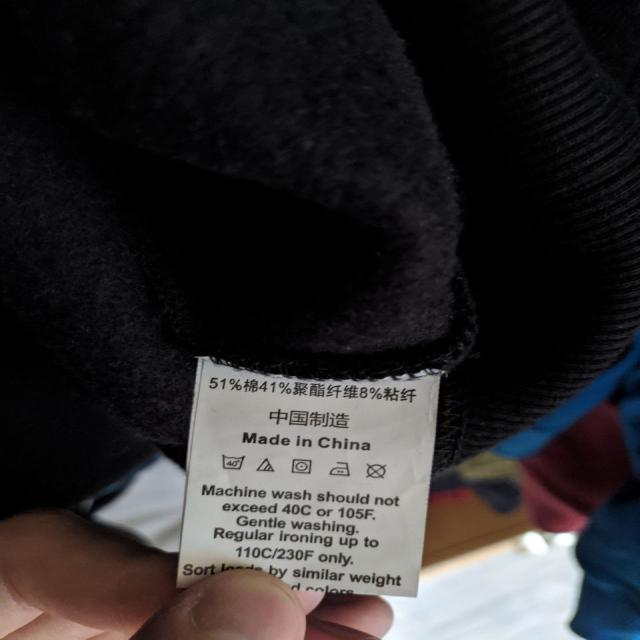40C: (218, 449, 246, 474)
DN_dry_clean: (366, 461, 390, 482)
iron_medium: (330, 457, 353, 479)
non_chlorine_bleach: (256, 454, 275, 474)
tumble_dry_low: (290, 456, 314, 475)
